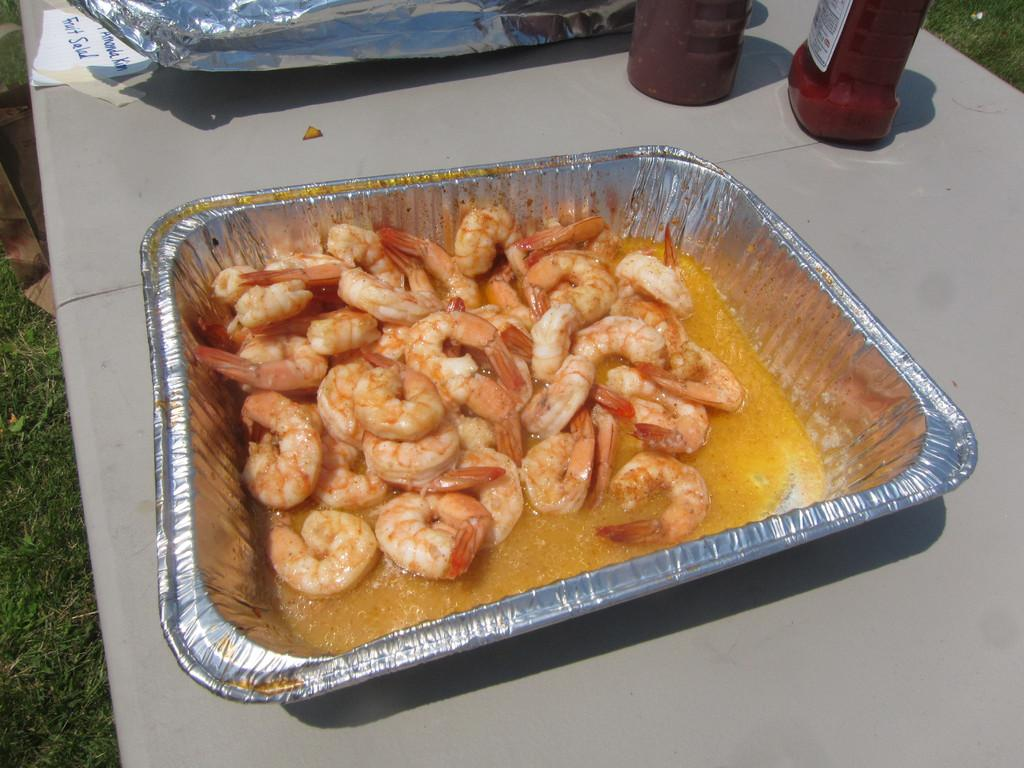Shrimp: (195, 204, 743, 584)
